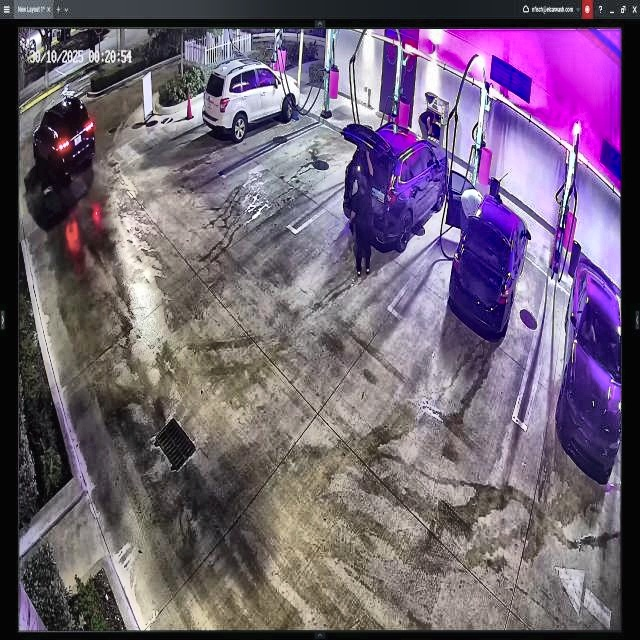Car: (342, 121, 448, 248), (451, 170, 528, 341), (204, 62, 298, 140)
